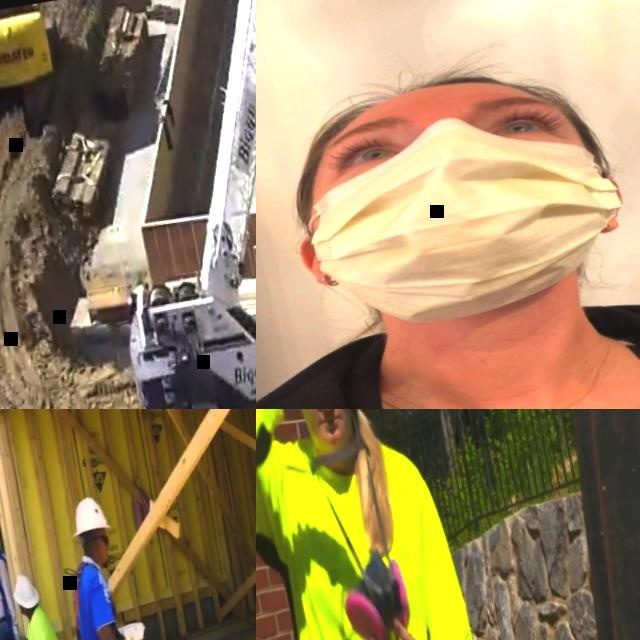Hardhat: (67, 494, 113, 541), (9, 572, 41, 612)
Mask: (273, 98, 628, 343), (336, 542, 418, 640)
NO-Hardhat: (299, 62, 564, 138)
NO-Mask: (305, 409, 357, 455), (95, 545, 109, 566), (19, 608, 26, 616)
NO-Safety Vest: (262, 423, 465, 640), (256, 305, 640, 409), (62, 560, 122, 640), (24, 613, 63, 640), (0, 557, 10, 624)
Person: (256, 32, 640, 409), (256, 409, 507, 640), (51, 491, 173, 640), (0, 568, 86, 640), (0, 517, 32, 640)
machinery: (68, 0, 256, 409), (0, 1, 72, 148)
